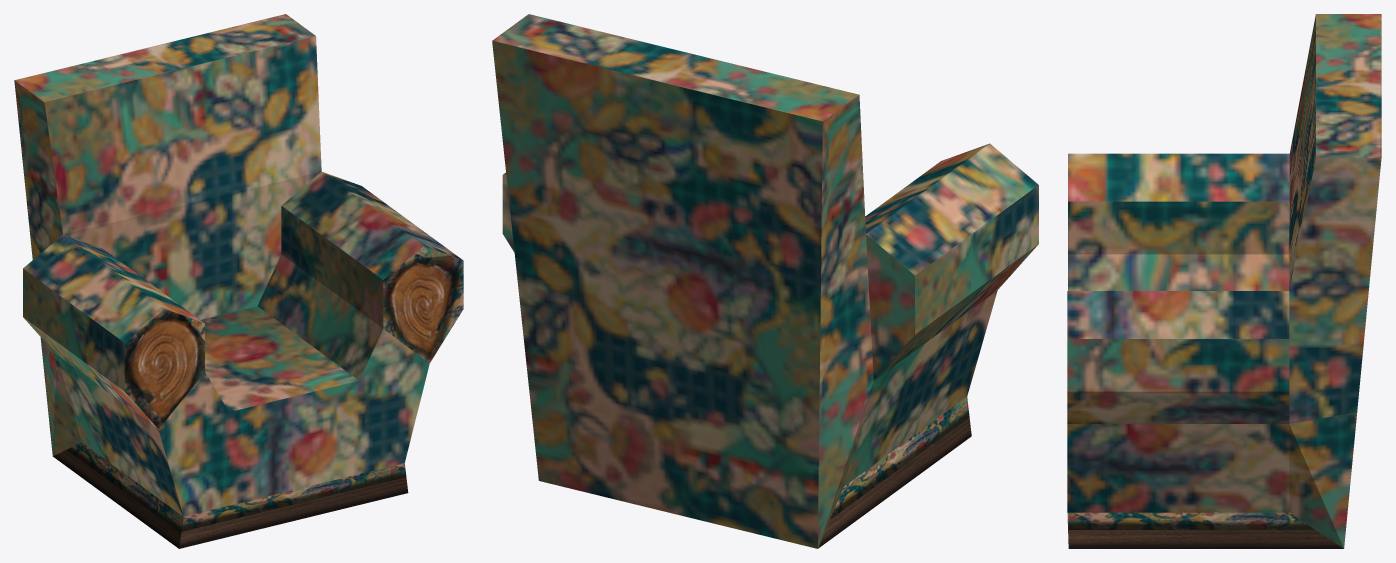
The model's file is single_sofa.fbx.
3 views of the same model, side by side, from view 1: azimuth 30°, elevation 25°; view 2: azimuth 150°, elevation 25°; view 3: azimuth 270°, elevation 25° (orthographic). The views are drawn at different scales.
Visible parts, largest first — view 1: sofa; view 2: sofa; view 3: sofa.
Part boxes in pixels (<box>): sofa: <box>14,14,463,548</box>; sofa: <box>492,14,1038,548</box>; sofa: <box>1067,14,1381,548</box>.
Size of the model in its own units: 118 by 123 by 86.8.
